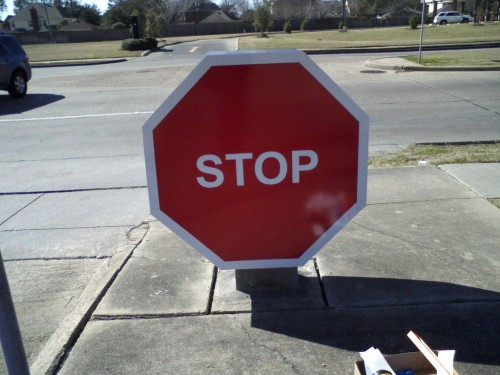stopsign: (144, 52, 370, 271)
